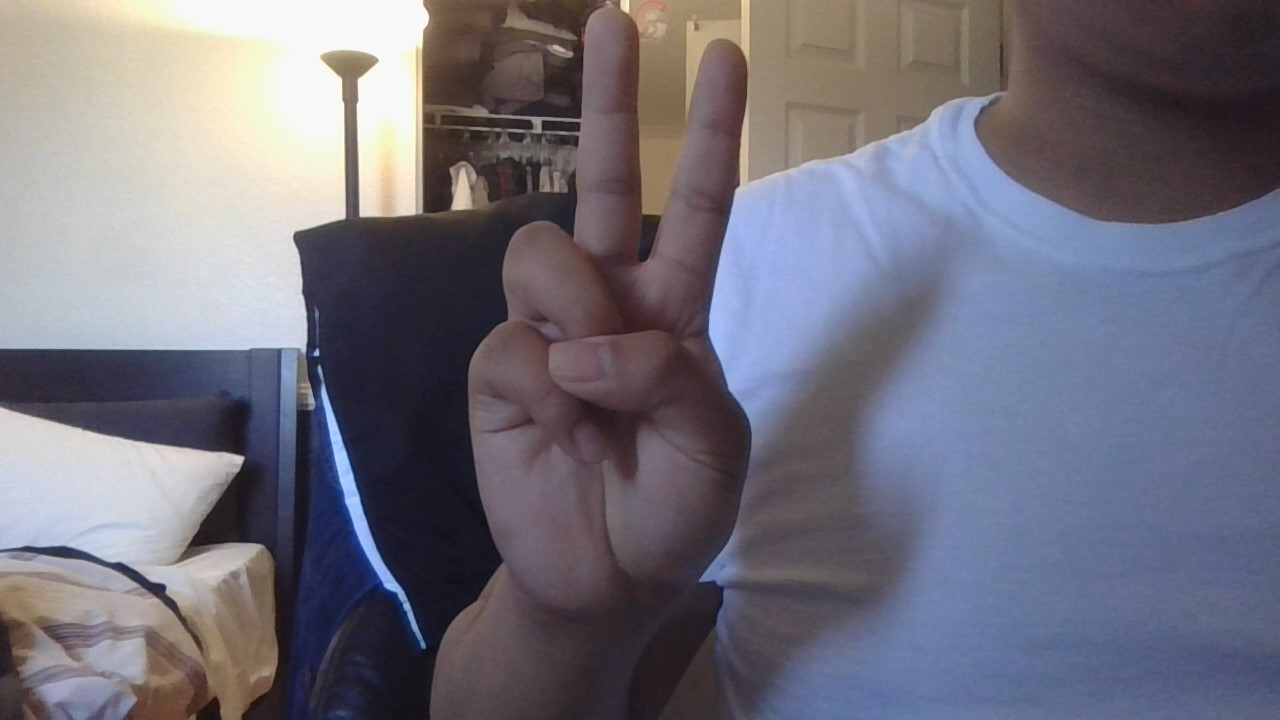v: (440, 6, 796, 626)
